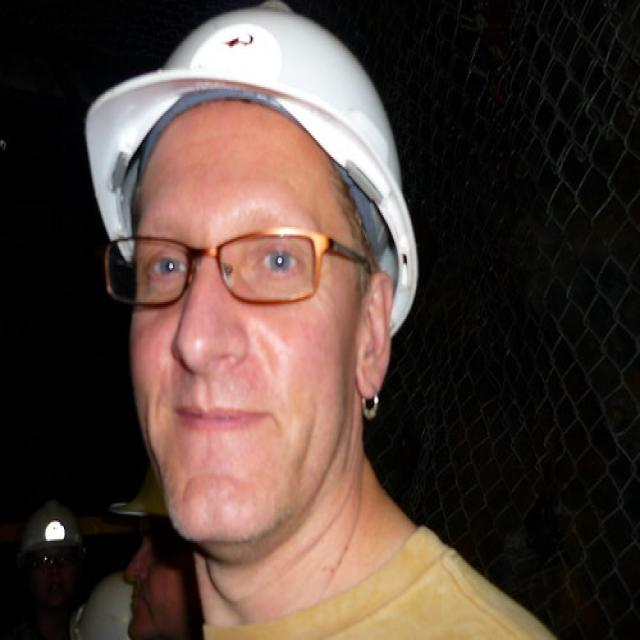Safety-Helmet: (76, 5, 432, 280), (13, 488, 93, 572)
